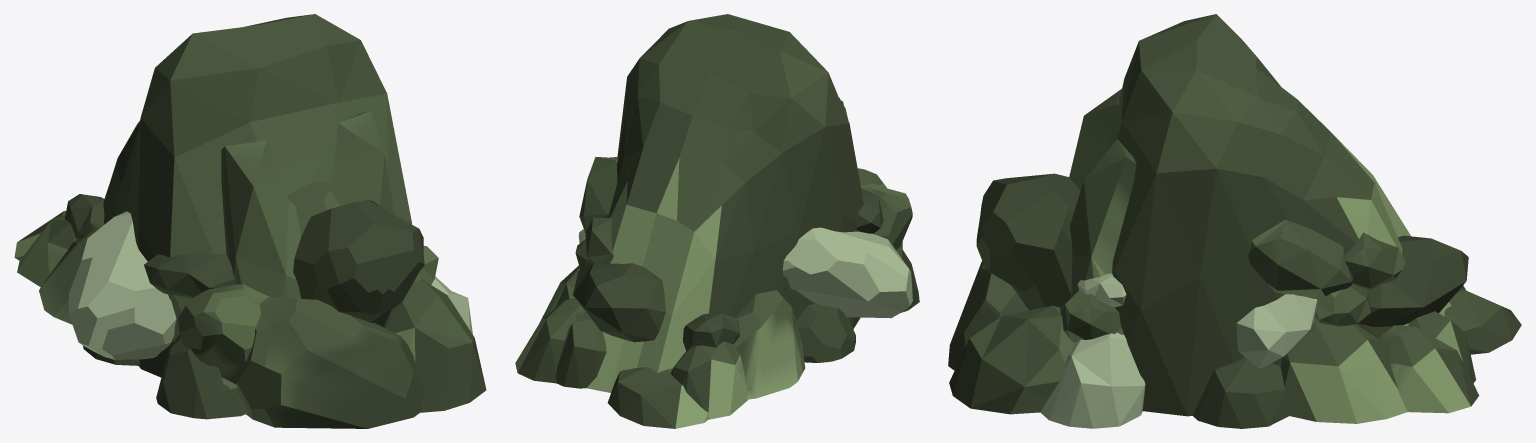
File: EA_Swamp_Stones_01b.glb
3 renders of one model, left to right at view 1: azimuth 30°, elevation 25°; view 2: azimuth 150°, elevation 25°; view 3: azimuth 270°, elevation 25°, orthographic. The views are drawn at different scales.
Visible parts, largest first — view 1: EA_Swamp_Stones_01b; view 2: EA_Swamp_Stones_01b; view 3: EA_Swamp_Stones_01b.
Part boxes in pixels (x1=…): EA_Swamp_Stones_01b: x1=14, y1=14, x2=486, y2=428; EA_Swamp_Stones_01b: x1=515, y1=14, x2=919, y2=428; EA_Swamp_Stones_01b: x1=948, y1=14, x2=1521, y2=428.
Bounding box in the file's own units: 12.32 × 10.67 × 17.63.
Materials: 1 (1 with a texture image).
